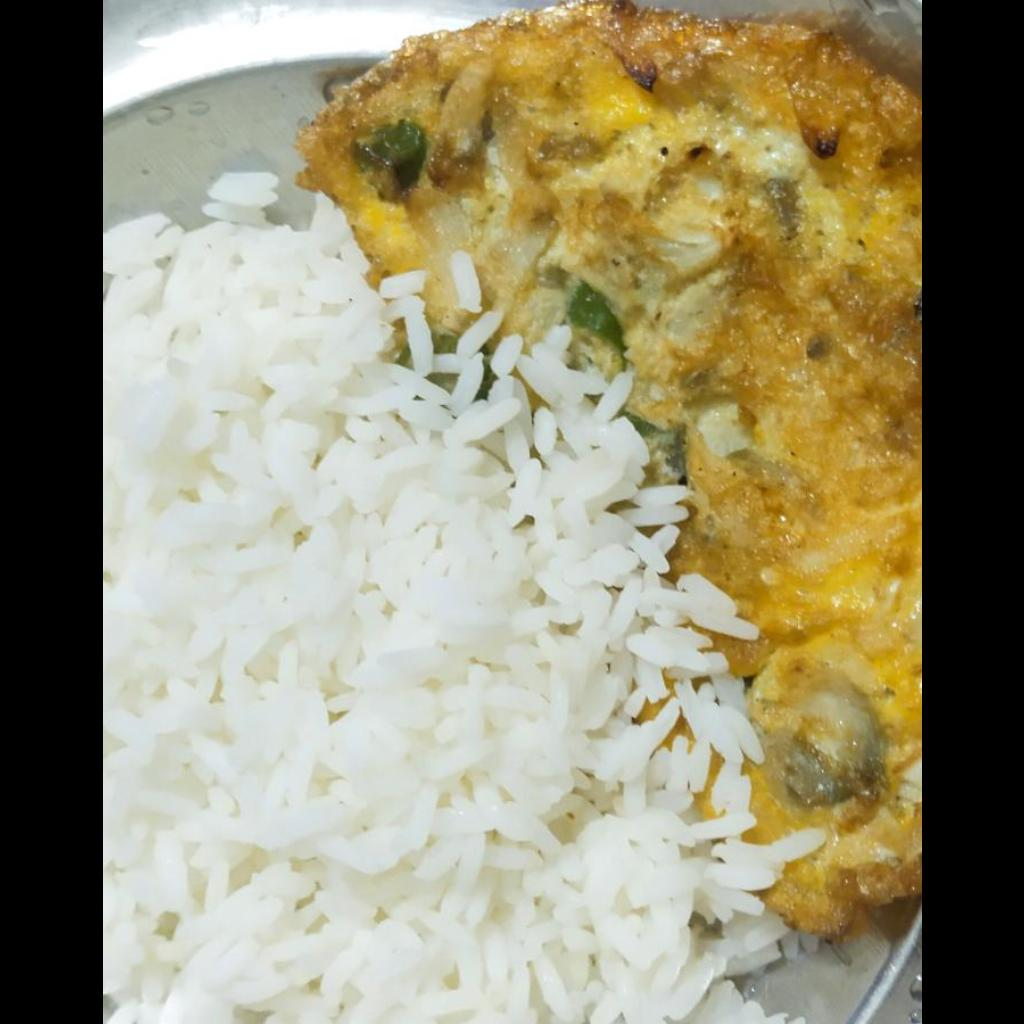egg-poached: (298, 2, 920, 924)
rice: (102, 173, 833, 1022)
